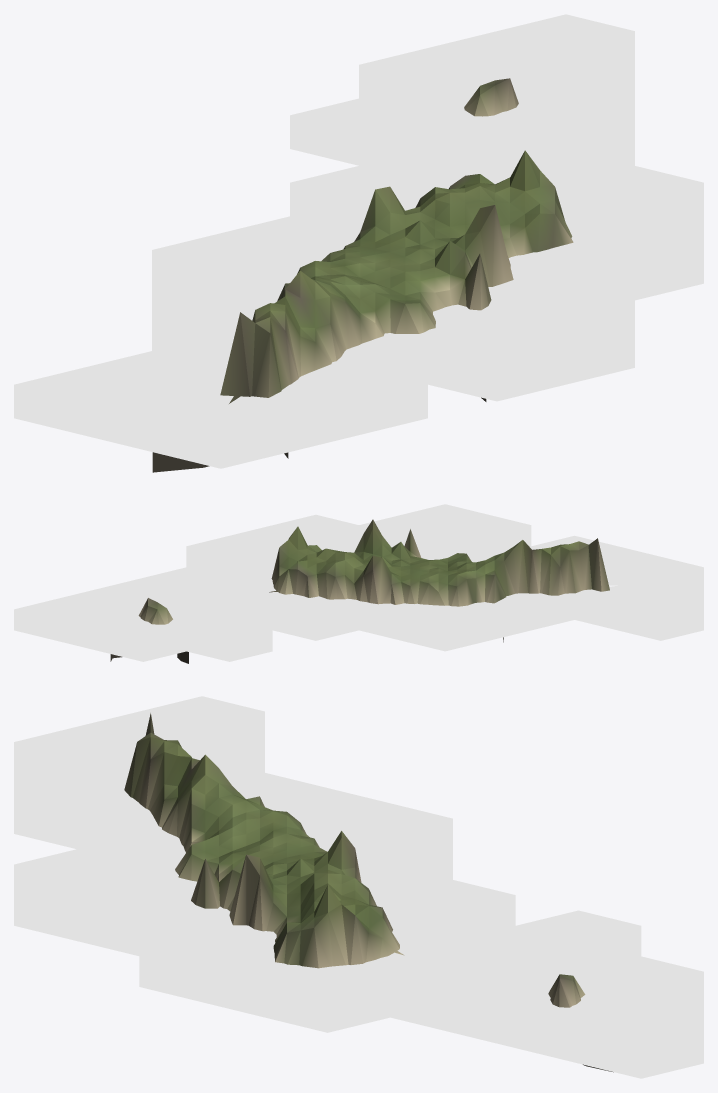
Rendered from landmark-fernando-de-noronha-low.v1.glb.
3 views of the same model, one above another, from view 1: azimuth 30°, elevation 25°; view 2: azimuth 150°, elevation 25°; view 3: azimuth 270°, elevation 25° (orthographic). The views are drawn at different scales.
Visible parts, largest first — view 1: surf, island; view 2: surf, island; view 3: surf, island.
Boxes of the visible parts, x1,y1,x2,y2 form: surf: (14, 14, 703, 468); island: (152, 78, 573, 472); surf: (14, 504, 703, 661); island: (110, 519, 609, 663); surf: (14, 696, 703, 1078); island: (124, 713, 613, 1072).
Bounding box in the file's own units: 47.25 × 7.32 × 36.01.
